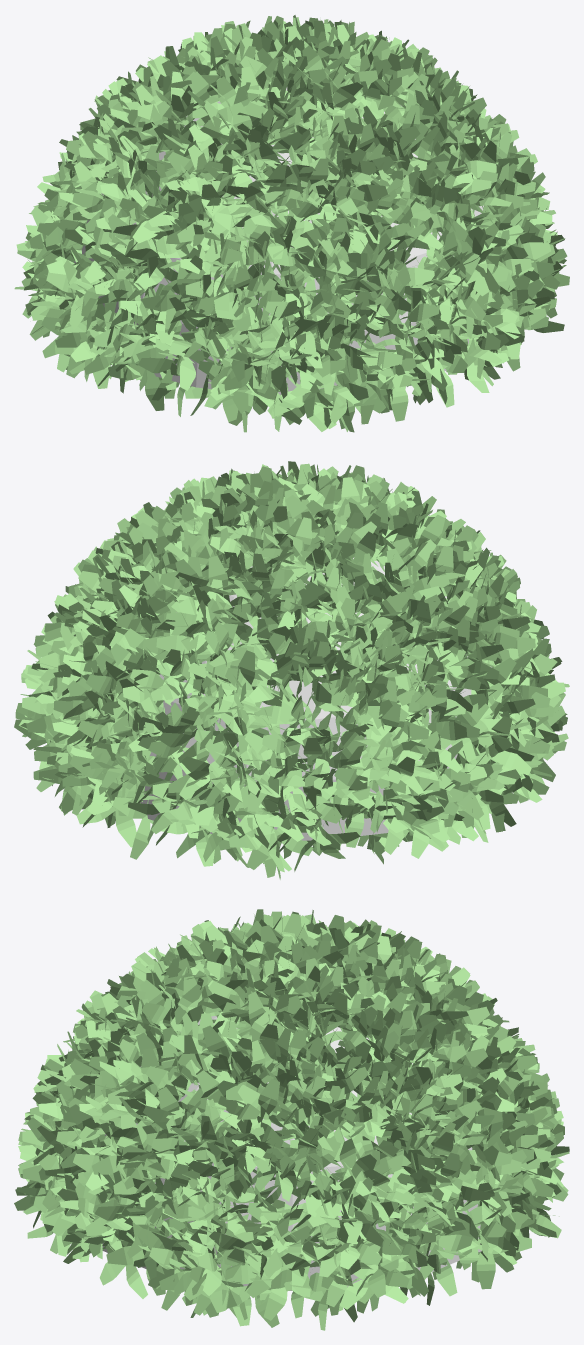
Rendered from Bush.fbx.
3 views of the same model, one above another, from view 1: azimuth 30°, elevation 25°; view 2: azimuth 150°, elevation 25°; view 3: azimuth 270°, elevation 25° (orthographic).
Visible parts, largest first — view 1: Sphere, Sphere|leaf|Dupli|1804, Sphere|leaf|Dupli|748, Sphere|leaf|Dupli|817, Sphere|leaf|Dupli|1372, Sphere|leaf|Dupli|790, Sphere|leaf|Dupli|79, Sphere|leaf|Dupli|377, Sphere|leaf|Dupli|1109, Sphere|leaf|Dupli|1669, Sphere|leaf|Dupli|1343, Sphere|leaf|Dupli|1683 (+14 smaller); view 2: Sphere, Sphere|leaf|Dupli|1173, Sphere|leaf|Dupli|179, Sphere|leaf|Dupli|1249, Sphere|leaf|Dupli|109, Sphere|leaf|Dupli|1188, Sphere|leaf|Dupli|910, Sphere|leaf|Dupli|1231, Sphere|leaf|Dupli|433, Sphere|leaf|Dupli|943, Sphere|leaf|Dupli|1133, Sphere|leaf|Dupli|141 (+26 smaller); view 3: Sphere, Sphere|leaf|Dupli|1653, Sphere|leaf|Dupli|847, Sphere|leaf|Dupli|229, Sphere|leaf|Dupli|747, Sphere|leaf|Dupli|284, Sphere|leaf|Dupli|259, Sphere|leaf|Dupli|1065, Sphere|leaf|Dupli|1262, Sphere|leaf|Dupli|92, Sphere|leaf|Dupli|368, Sphere|leaf|Dupli|753 (+27 smaller).
Boxes of the visible parts, x1,y1,x2,y2 form: Sphere: (70,87,483,395); Sphere|leaf|Dupli|1804: (108,325,164,410); Sphere|leaf|Dupli|748: (138,329,192,400); Sphere|leaf|Dupli|817: (456,253,486,320); Sphere|leaf|Dupli|1372: (141,264,195,311); Sphere|leaf|Dupli|790: (366,349,431,421); Sphere|leaf|Dupli|79: (395,301,439,359); Sphere|leaf|Dupli|377: (285,178,347,221); Sphere|leaf|Dupli|1109: (120,300,174,343); Sphere|leaf|Dupli|1669: (252,366,302,424); Sphere|leaf|Dupli|1343: (131,308,181,387); Sphere|leaf|Dupli|1683: (211,165,252,224); Sphere: (139,557,491,840); Sphere|leaf|Dupli|1173: (112,797,168,859); Sphere|leaf|Dupli|179: (234,801,313,869); Sphere|leaf|Dupli|1249: (77,805,136,847); Sphere|leaf|Dupli|109: (210,679,296,755); Sphere|leaf|Dupli|1188: (386,548,449,595); Sphere|leaf|Dupli|910: (204,739,231,806); Sphere|leaf|Dupli|1231: (254,517,311,567); Sphere|leaf|Dupli|433: (456,618,499,679); Sphere|leaf|Dupli|943: (150,655,212,725); Sphere|leaf|Dupli|1133: (344,797,404,847); Sphere|leaf|Dupli|141: (431,680,479,738); Sphere: (102,1016,481,1290); Sphere|leaf|Dupli|1653: (99,1220,147,1298); Sphere|leaf|Dupli|847: (246,1253,323,1320); Sphere|leaf|Dupli|229: (476,1208,531,1289); Sphere|leaf|Dupli|747: (218,1079,282,1127); Sphere|leaf|Dupli|284: (141,984,203,1037); Sphere|leaf|Dupli|259: (339,1279,408,1309); Sphere|leaf|Dupli|1065: (440,1152,491,1201); Sphere|leaf|Dupli|1262: (420,1234,473,1279); Sphere|leaf|Dupli|92: (143,1088,206,1125); Sphere|leaf|Dupli|368: (259,1036,325,1062); Sphere|leaf|Dupli|753: (227,1266,289,1327).
Bounding box in the file's own units: 235 × 135 × 233.
